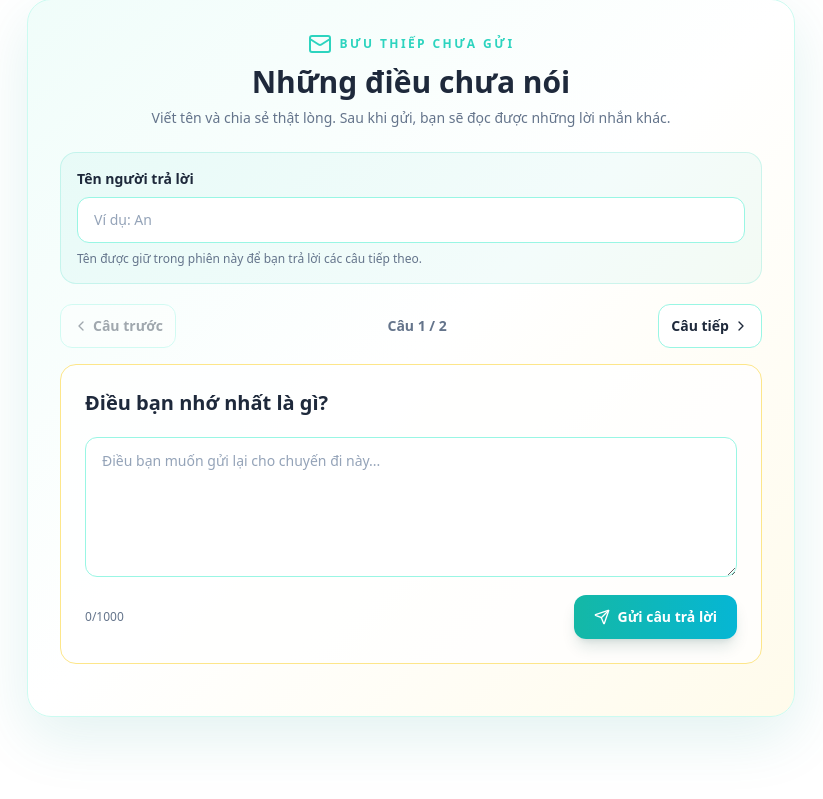
TravelGameSection › submits the name and current answer, then reveals answers only after success
This screenshot has width=823, height=799.
Type "Mai" into the field labelled "Tên người trả lời". click: (411, 220)
box: [77,197,745,243]
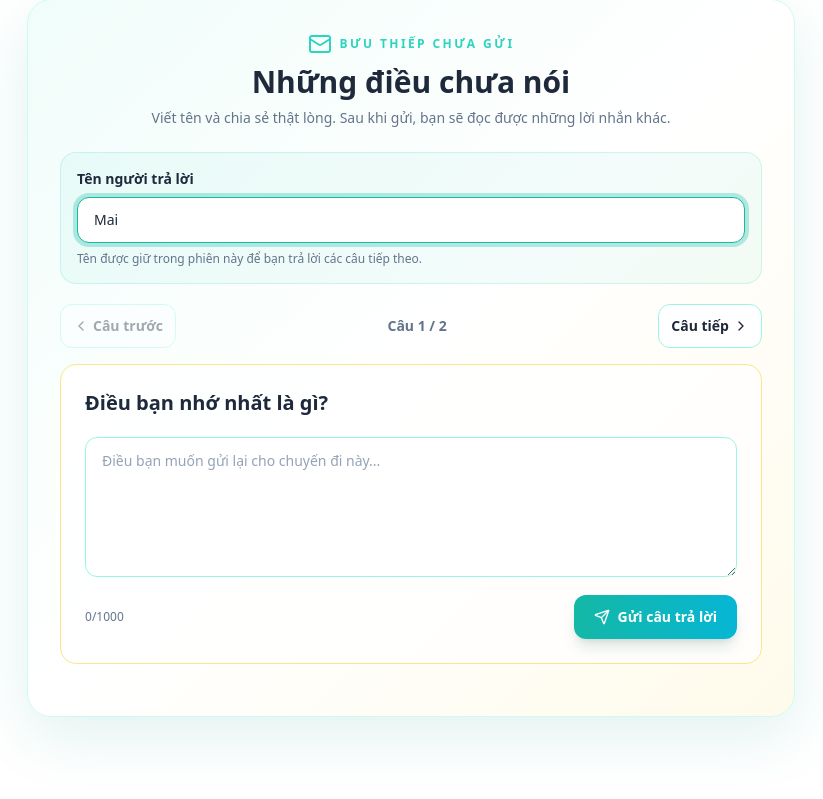
Type "Mình nhớ buổi chiều bên sông." into the text box named "Câu trả lời". click: (411, 507)
box: [85,437,737,577]
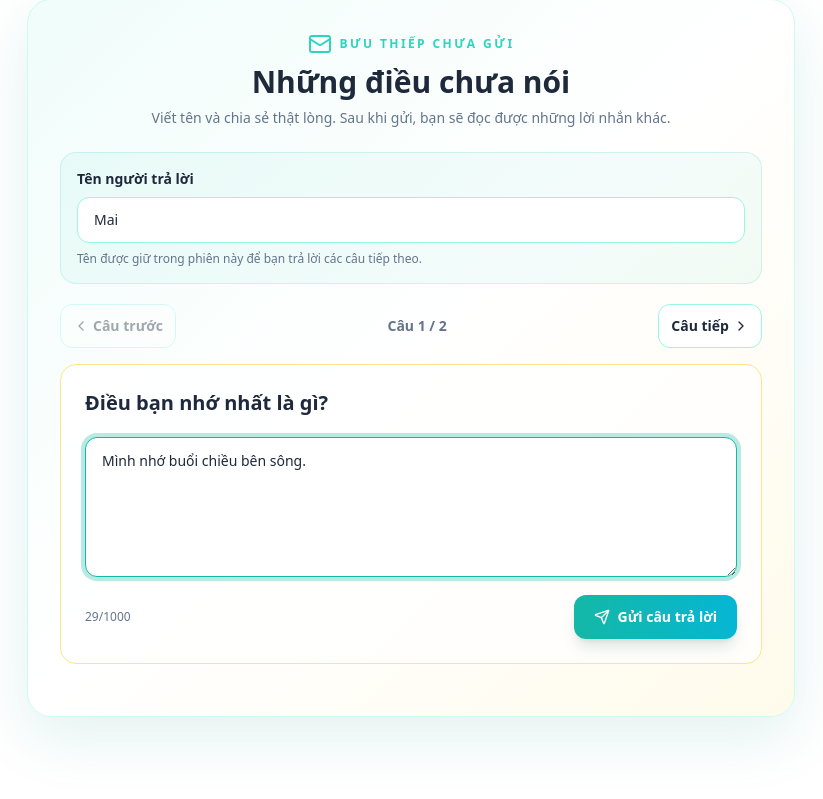
Click the button "Gửi câu trả lời". click: (655, 617)
box: [574,595,737,639]
(page scrolled)
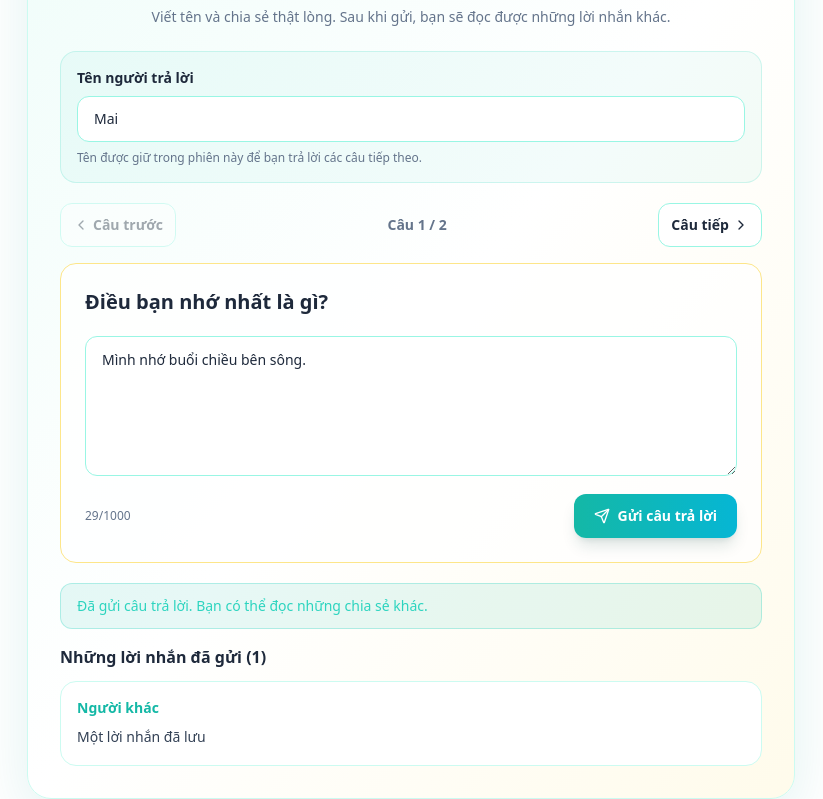
Check: the text "Người khác" is shown, box [77,698,159,717]
Check: the text "Một lời nhắn đã lưu" is shown, box [77,727,206,746]
